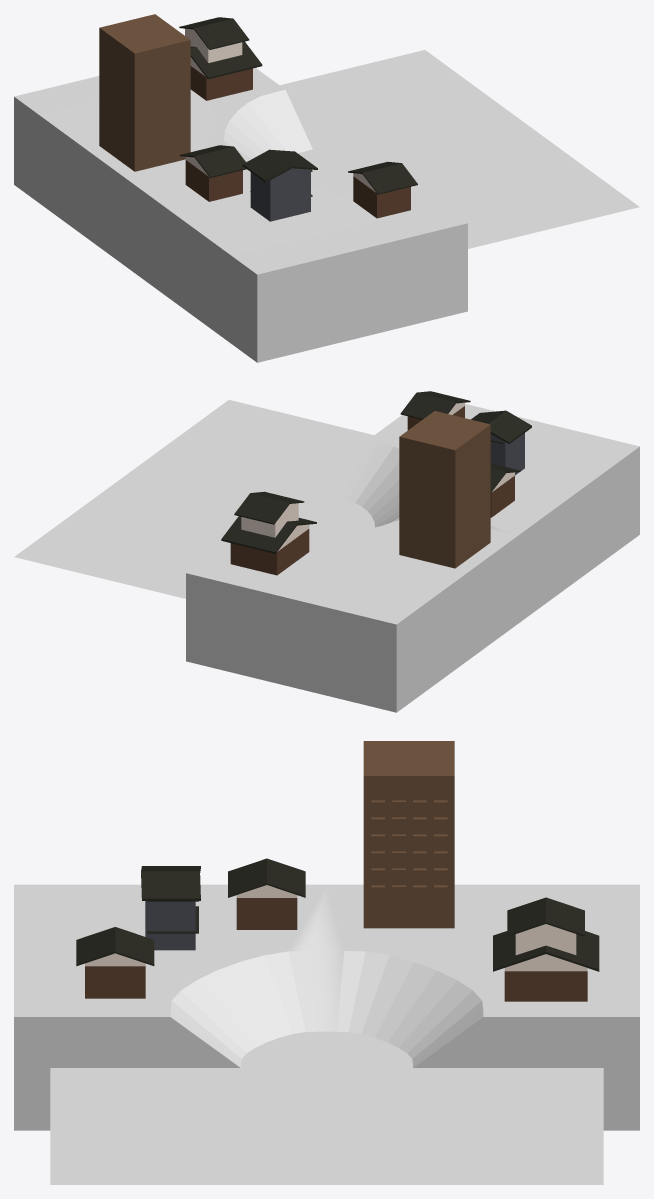
The model's file is sealevelrise.gltf.
The picture shows the model from 3 angles, top to bottom: view 1: azimuth 30°, elevation 25°; view 2: azimuth 150°, elevation 25°; view 3: azimuth 270°, elevation 25°; orthographic projection. The views are drawn at different scales.
Visible parts, largest first — view 1: base, sea, building_showa, house_showa04, house_showa02, house_showa01, house_showa03; view 2: base, sea, building_showa, house_showa04, house_showa02, house_showa01, house_showa03; view 3: base, sea, building_showa, house_showa04, house_showa02, house_showa01, house_showa03.
Part boxes in pixels (box(x1,y1,x2,y2)): base: box(14, 68, 467, 362); sea: box(280, 50, 639, 248); building_showa: box(99, 14, 190, 171); house_showa04: box(179, 17, 262, 100); house_showa02: box(242, 149, 317, 221); house_showa01: box(348, 161, 417, 218); house_showa03: box(180, 145, 246, 201); base: box(186, 404, 639, 712); sea: box(14, 400, 374, 598); building_showa: box(399, 411, 490, 568); house_showa04: box(221, 491, 316, 575); house_showa02: box(471, 410, 531, 475); house_showa01: box(400, 391, 470, 430); house_showa03: box(490, 463, 520, 517); base: box(14, 884, 639, 1130); sea: box(50, 1031, 603, 1184); building_showa: box(363, 741, 454, 928); house_showa04: box(493, 897, 599, 1001); house_showa02: box(141, 866, 200, 950); house_showa01: box(76, 927, 154, 998); house_showa03: box(228, 858, 305, 929).
Bounding box in the file's own units: 9.42 × 4.68 × 10.
